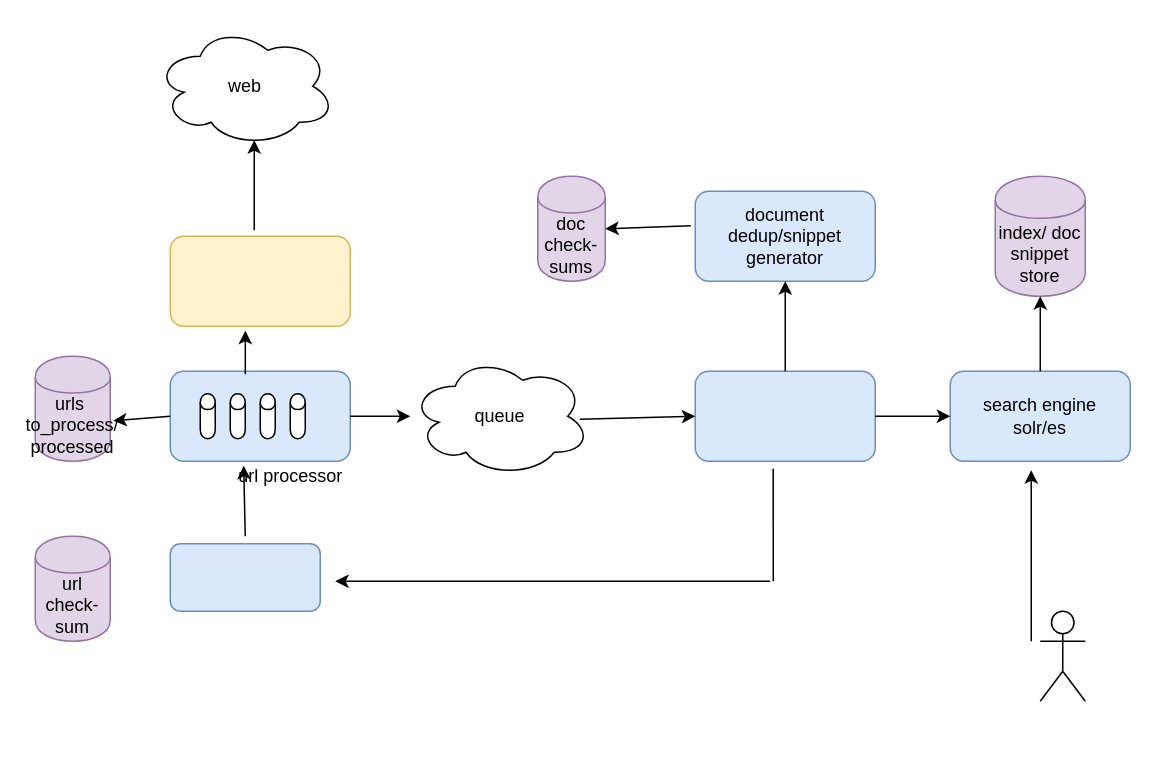
Some shapes in this 1157 by 759 pixel diagram are drawn without their labels. Each missing label, with the centre of its shape:
"Actor" goes at point (1062, 655).
"extractor" goes at point (784, 415).
"html fetcher" goes at point (259, 280).
"url dedup" goes at point (244, 576).
